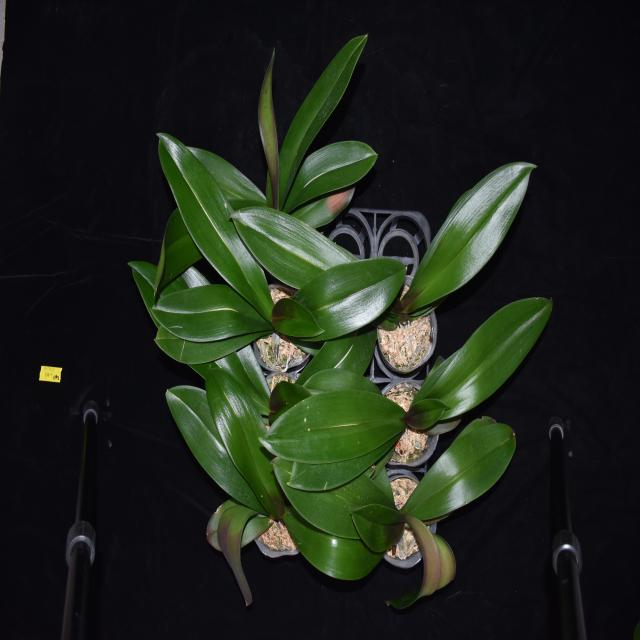leaf: (154, 127, 276, 322), (407, 297, 555, 436), (401, 160, 538, 308), (274, 29, 375, 207), (153, 378, 259, 510), (404, 414, 528, 520), (226, 200, 360, 294), (293, 247, 407, 345), (205, 369, 281, 514), (271, 457, 403, 535), (262, 390, 404, 455), (286, 418, 408, 490), (121, 247, 210, 338), (278, 509, 384, 584), (177, 140, 277, 218), (287, 136, 387, 208), (150, 281, 270, 338), (253, 41, 293, 198), (295, 318, 386, 384), (151, 320, 278, 365), (148, 211, 202, 309), (408, 514, 458, 600), (219, 502, 254, 606), (208, 490, 267, 546), (347, 503, 405, 554), (270, 288, 320, 346), (302, 366, 380, 399), (268, 376, 311, 424), (406, 393, 449, 434)
